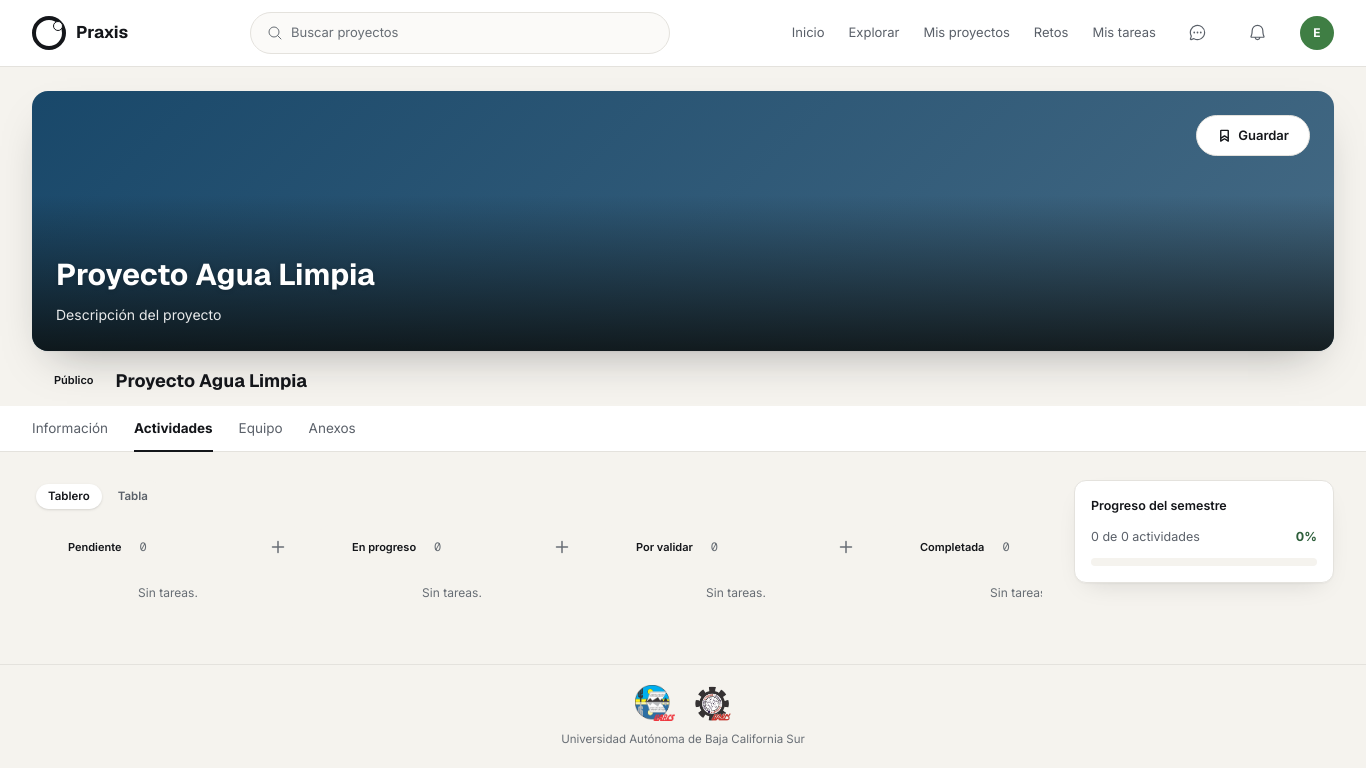
Scenario: CreateActivityForm — responsible person + due date › creates an activity with the typed title, a chosen due date, and an assignee
The width and height of the screenshot is (1366, 768).
Later steps or results of the test are not shown.
Click the button named "Agregar actividad en Pendiente" at (278, 547), box x1=266 y1=535 x2=290 y2=559
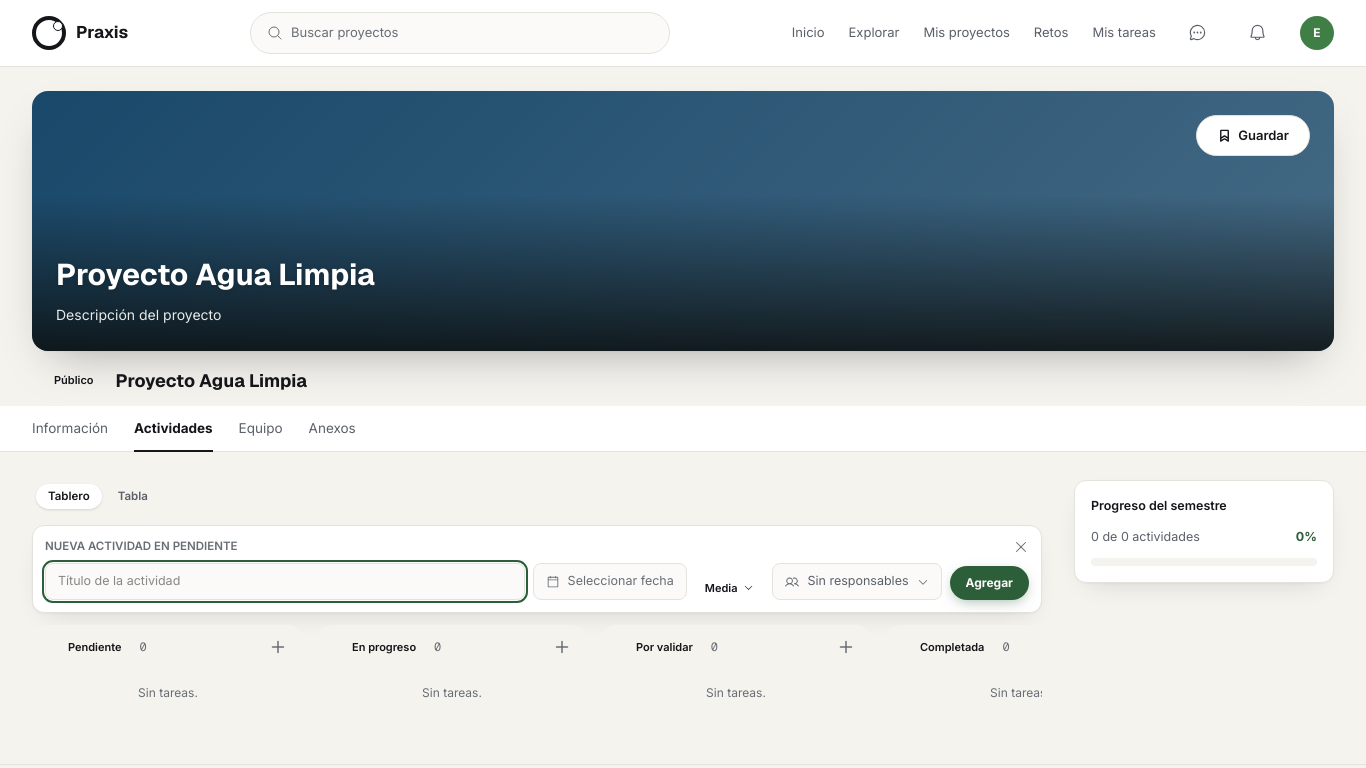
Type "Recolectar encuestas" into the field with placeholder "Título de la actividad" at (285, 582), box x1=45 y1=563 x2=525 y2=600
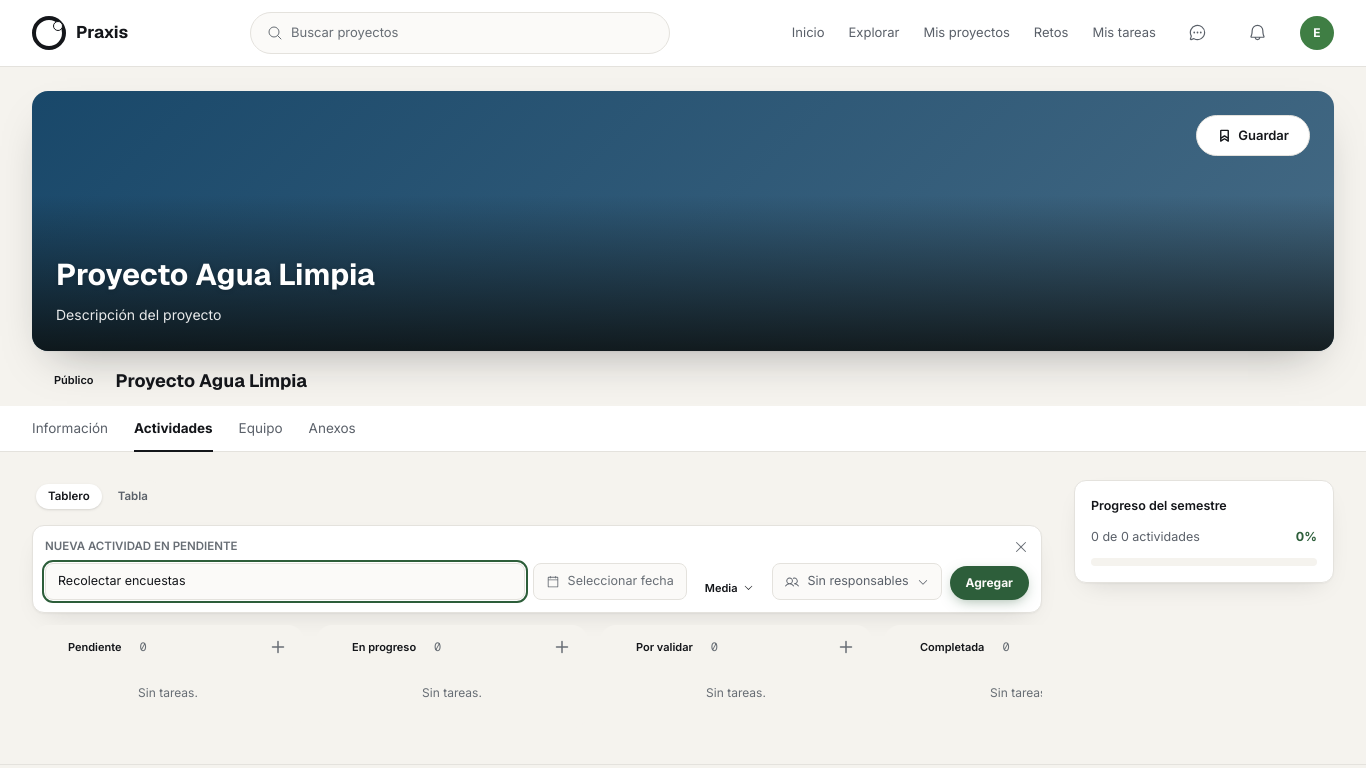
Click the button with aria-label "Fecha límite" at (610, 582), box x1=533 y1=563 x2=687 y2=600
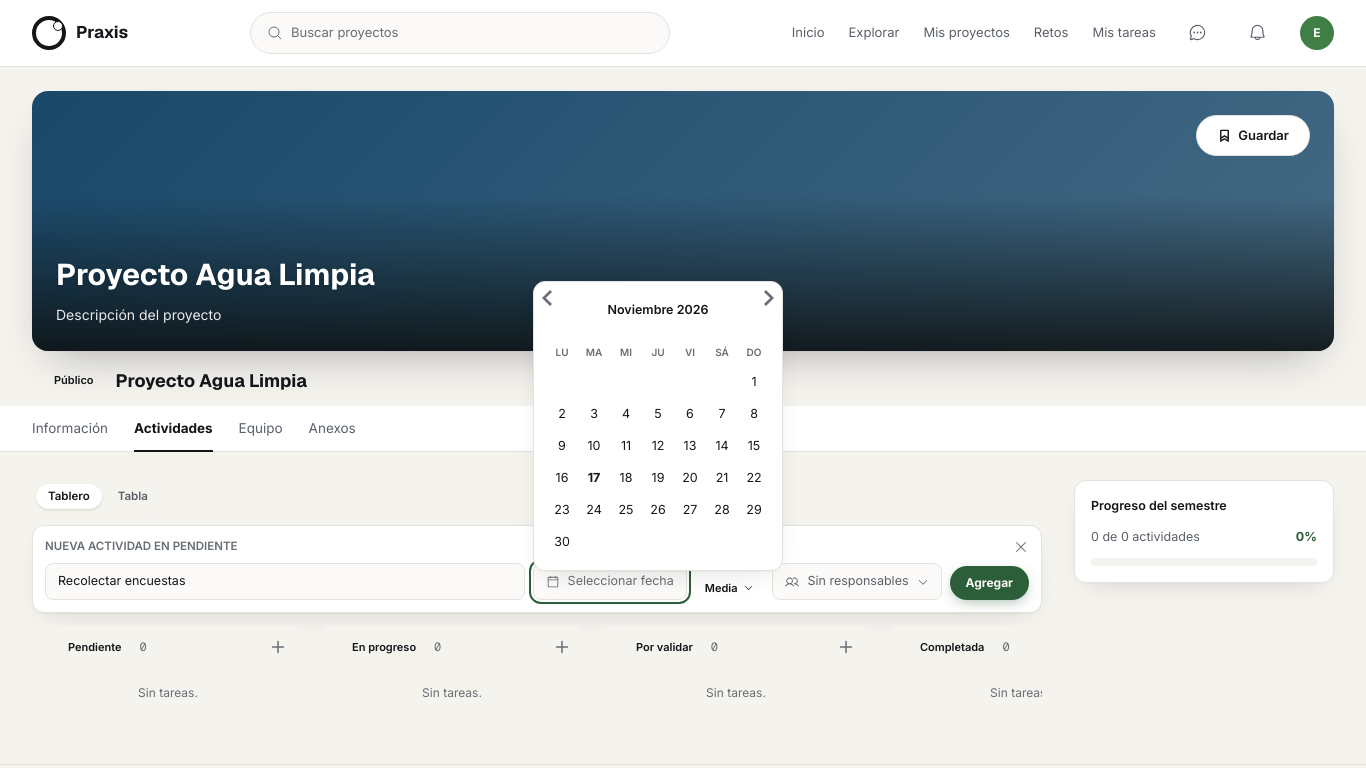
Now the button "15" is shown, box x1=738 y1=430 x2=770 y2=462
